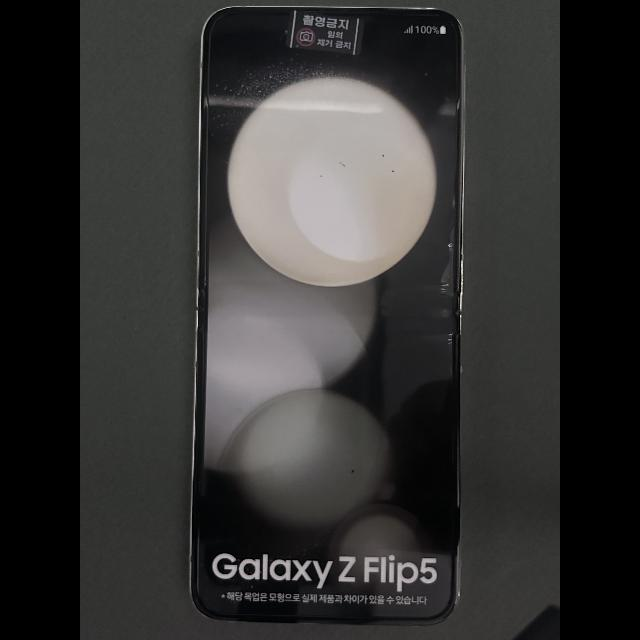phone: (188, 6, 466, 627)
sticker: (286, 11, 364, 56)
